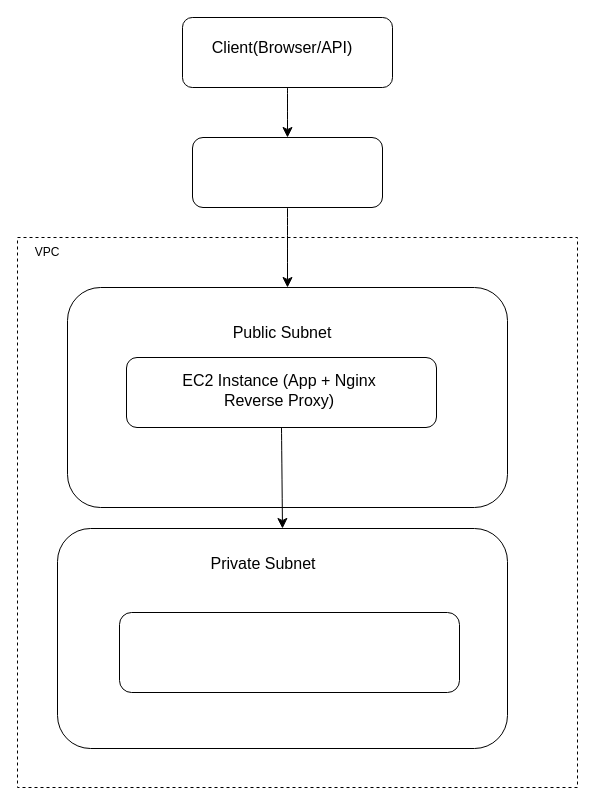
Image size: 595x805. Some labels were removed from this diagram. The shapes that lost their labels are listed below. From the top down, each one's centre as x and y in pixels, then its label:
At [287,172]: "Internet".
At [289,652]: "RDS PostgreSQL Database".
